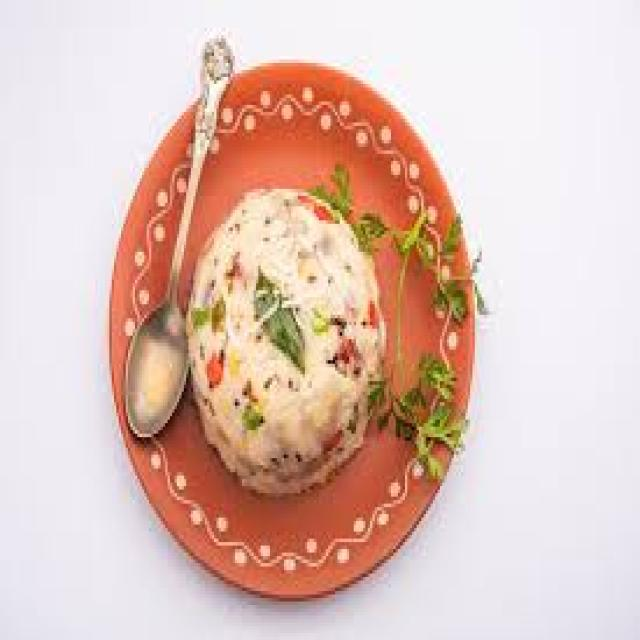UPMA: (189, 185, 384, 490)
